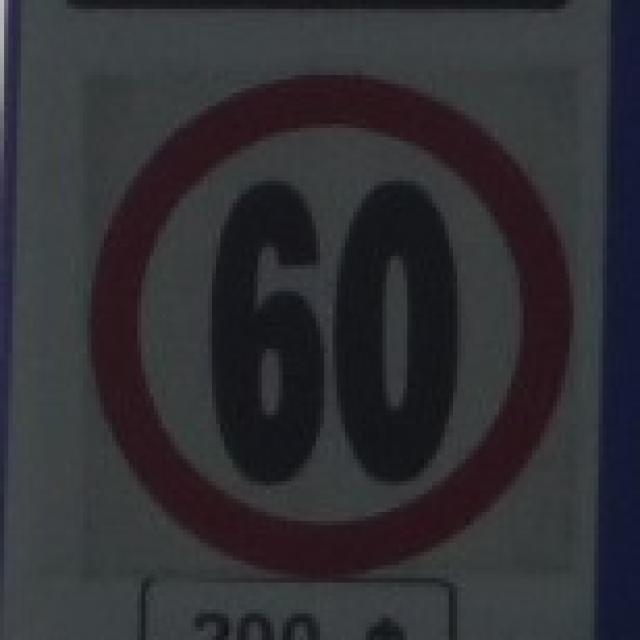Speed Limit -60-: (204, 172, 465, 490)
